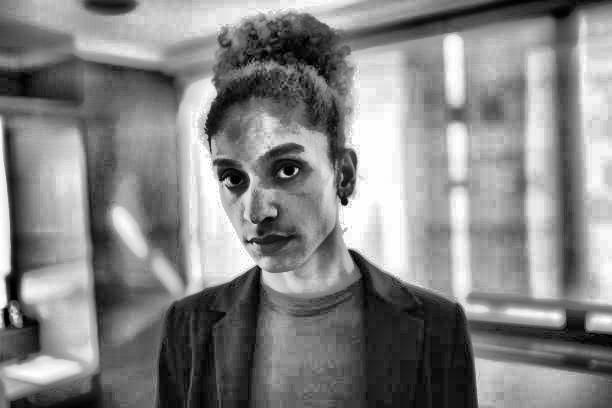sad: (202, 88, 373, 275)
